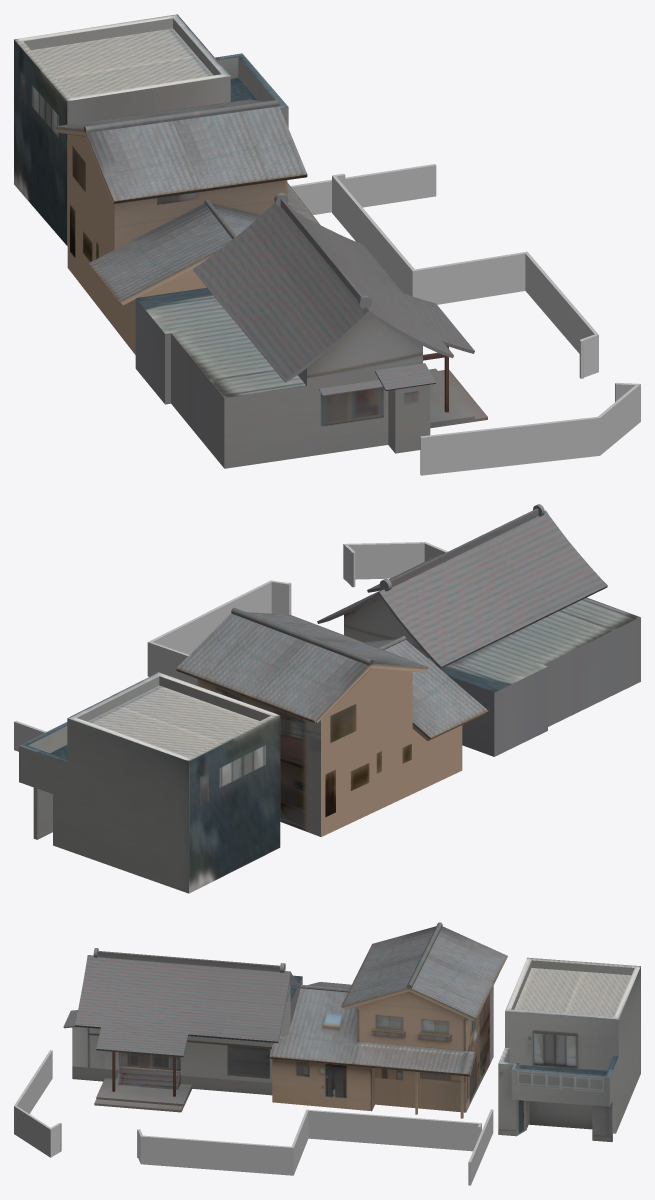
The model's file is cp08_integrated.fbx.
The picture shows the model from 3 angles, top to bottom: view 1: azimuth 30°, elevation 25°; view 2: azimuth 150°, elevation 25°; view 3: azimuth 270°, elevation 25°; orthographic projection. The views are drawn at different scales.
Visible parts, largest first — view 1: bldg_57e91da8_babf_4892_b2fc_85431cb8edb3, bldg_c9af39a0_6197_420d_ad46_c2d2822bc507, bldg_edc18449_028d_4960_bf42_bf16f908efc7, frn_403ab72c_3b7c_4f28_84af_f049a5595c97, frn_2b979abf_35e2_4048_a926_22d6e9371745, frn_76cd8468_90a0_4a46_b255_5331760a19dc; view 2: bldg_edc18449_028d_4960_bf42_bf16f908efc7, bldg_57e91da8_babf_4892_b2fc_85431cb8edb3, bldg_c9af39a0_6197_420d_ad46_c2d2822bc507, frn_403ab72c_3b7c_4f28_84af_f049a5595c97, frn_2b979abf_35e2_4048_a926_22d6e9371745; view 3: bldg_c9af39a0_6197_420d_ad46_c2d2822bc507, bldg_57e91da8_babf_4892_b2fc_85431cb8edb3, bldg_edc18449_028d_4960_bf42_bf16f908efc7, frn_403ab72c_3b7c_4f28_84af_f049a5595c97, frn_2b979abf_35e2_4048_a926_22d6e9371745, frn_76cd8468_90a0_4a46_b255_5331760a19dc.
Part boxes in pixels (bbox=[...]): bldg_57e91da8_babf_4892_b2fc_85431cb8edb3: bbox=[135, 193, 487, 468]; bldg_c9af39a0_6197_420d_ad46_c2d2822bc507: bbox=[56, 99, 320, 354]; bldg_edc18449_028d_4960_bf42_bf16f908efc7: bbox=[14, 14, 288, 245]; frn_403ab72c_3b7c_4f28_84af_f049a5595c97: bbox=[332, 173, 598, 378]; frn_2b979abf_35e2_4048_a926_22d6e9371745: bbox=[420, 382, 640, 475]; frn_76cd8468_90a0_4a46_b255_5331760a19dc: bbox=[290, 164, 436, 214]; bldg_edc18449_028d_4960_bf42_bf16f908efc7: bbox=[19, 672, 280, 893]; bldg_57e91da8_babf_4892_b2fc_85431cb8edb3: bbox=[317, 504, 640, 756]; bldg_c9af39a0_6197_420d_ad46_c2d2822bc507: bbox=[176, 607, 488, 836]; frn_403ab72c_3b7c_4f28_84af_f049a5595c97: bbox=[147, 580, 291, 685]; frn_2b979abf_35e2_4048_a926_22d6e9371745: bbox=[343, 542, 447, 587]; bldg_c9af39a0_6197_420d_ad46_c2d2822bc507: bbox=[269, 922, 507, 1118]; bldg_57e91da8_babf_4892_b2fc_85431cb8edb3: bbox=[63, 948, 302, 1112]; bldg_edc18449_028d_4960_bf42_bf16f908efc7: bbox=[498, 957, 640, 1141]; frn_403ab72c_3b7c_4f28_84af_f049a5595c97: bbox=[137, 1109, 481, 1175]; frn_2b979abf_35e2_4048_a926_22d6e9371745: bbox=[14, 1050, 61, 1157]; frn_76cd8468_90a0_4a46_b255_5331760a19dc: bbox=[468, 1109, 493, 1185].
Size of the model in its own units: 2259 by 838 by 3685.
